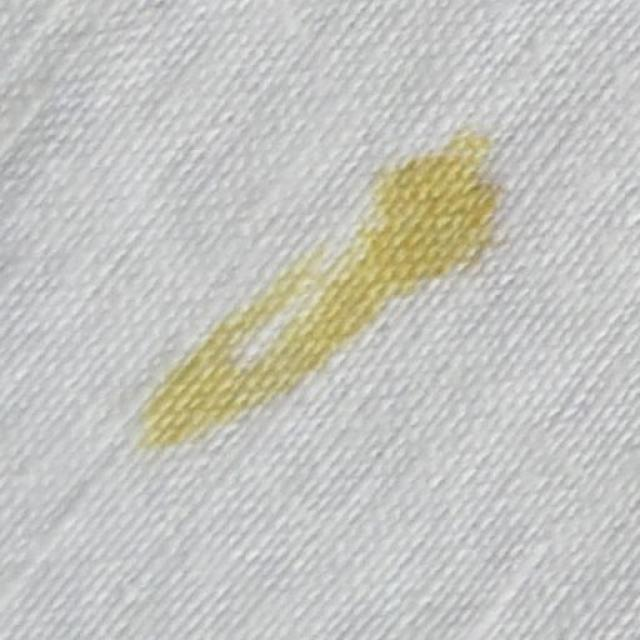Stain: (125, 135, 511, 436)
